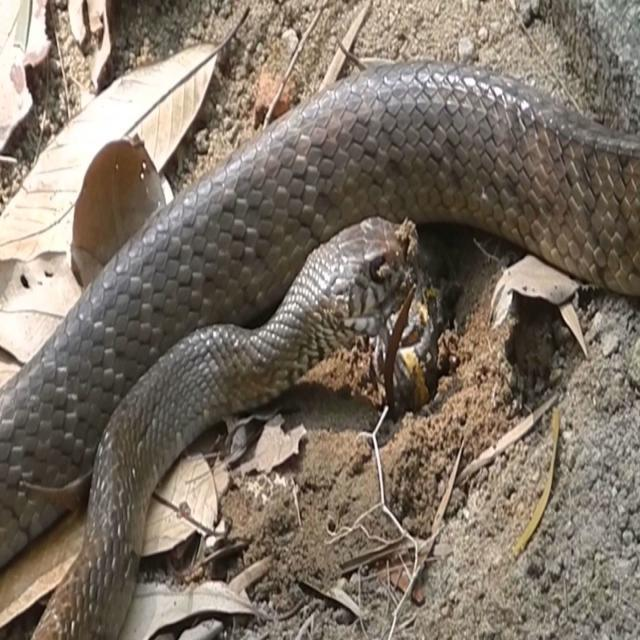Snake: (1, 55, 638, 638)
